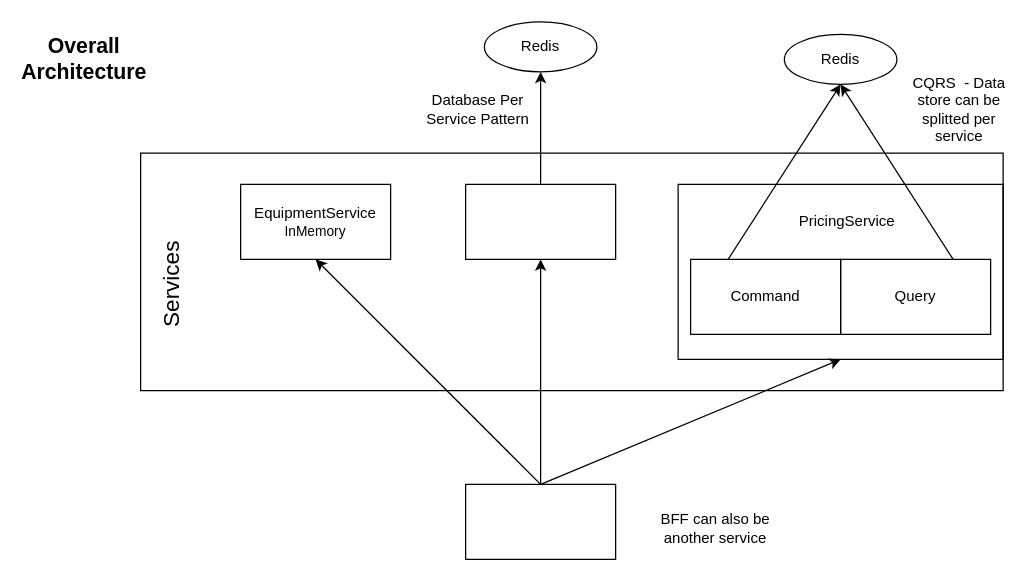
Some shapes in this 1030 by 581 pixel diagram are drawn without their labels. Each missing label, with the box of its shape:
BasketService: (464, 183, 616, 259)
MVC -Frontend & BFF: (464, 483, 616, 559)
